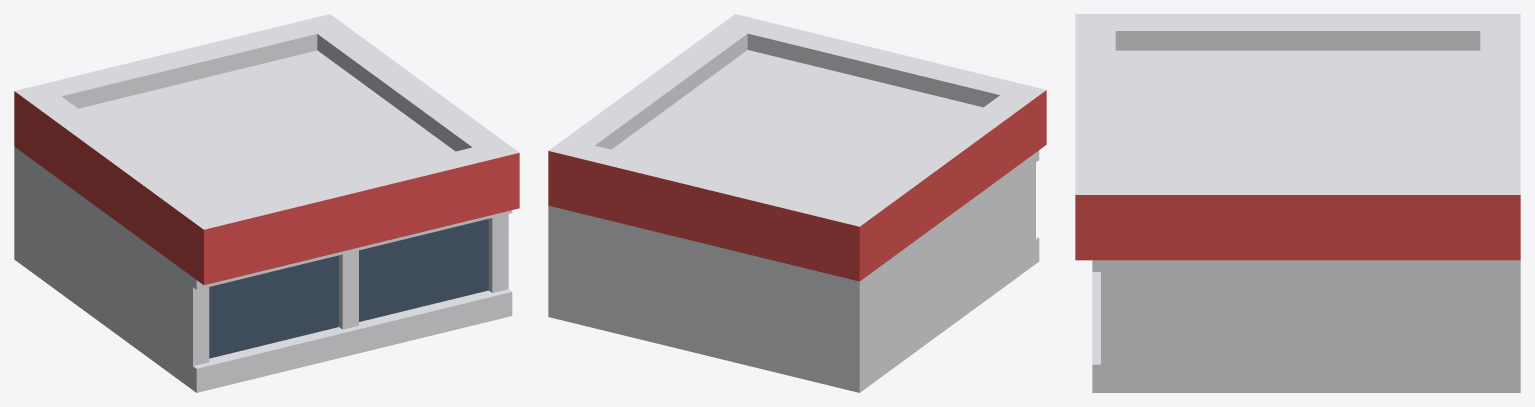
The model's file is pitsOffice.glb.
3 views of the same model, side by side, from view 1: azimuth 30°, elevation 25°; view 2: azimuth 150°, elevation 25°; view 3: azimuth 270°, elevation 25° (orthographic). The views are drawn at different scales.
Visible parts, largest first — view 1: pitsOffice(Clone); view 2: pitsOffice(Clone); view 3: pitsOffice(Clone).
Part boxes in pixels (x1,y1,x2,y2): pitsOffice(Clone): [14, 14, 519, 392]; pitsOffice(Clone): [548, 14, 1046, 392]; pitsOffice(Clone): [1075, 14, 1520, 392].
Bounding box in the file's own units: 1 × 0.51 × 1.04.
